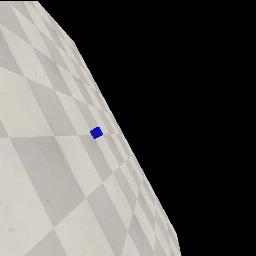box: (90, 127, 103, 139)
